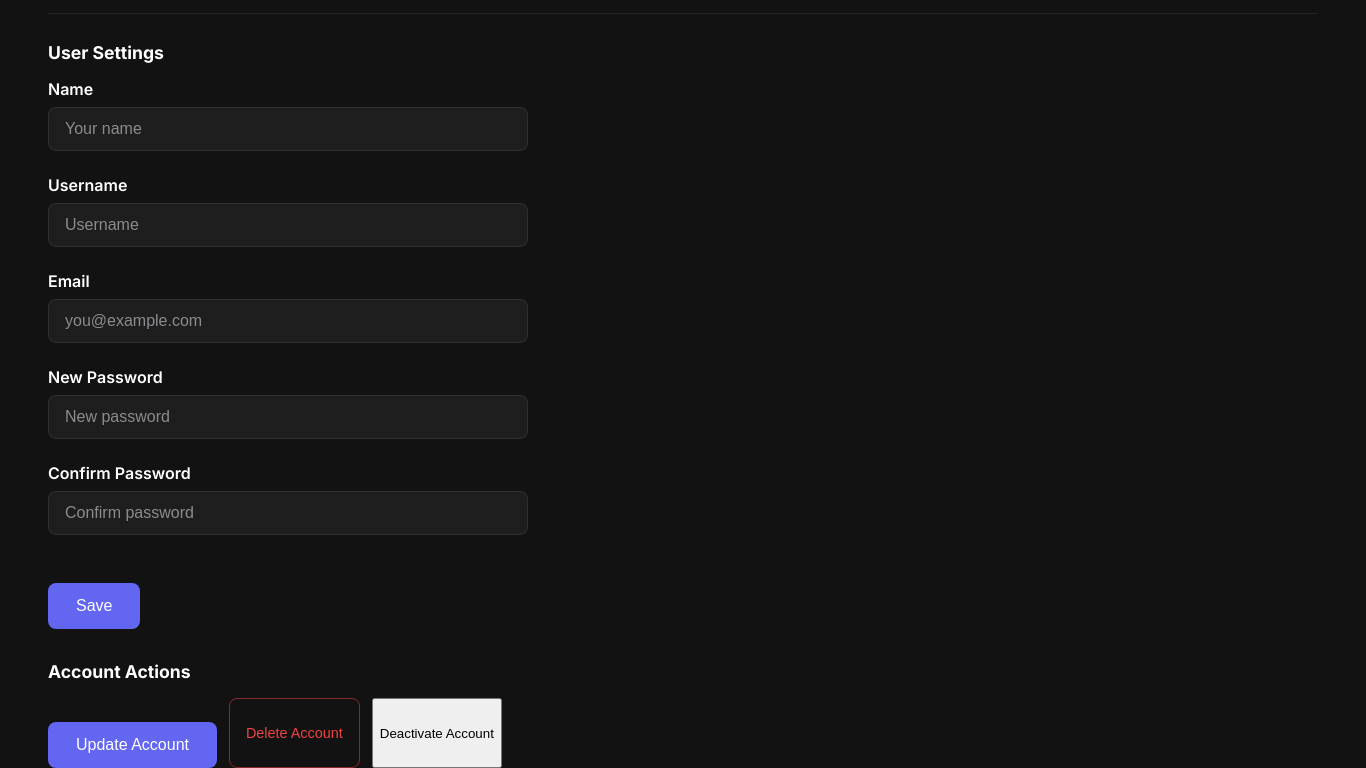
UserSettings component › shows success status after Update Account succeeds
(page scrolled)
Click the button "Update Account" at (132, 745), box top-left (48, 722), bottom-right (217, 767)
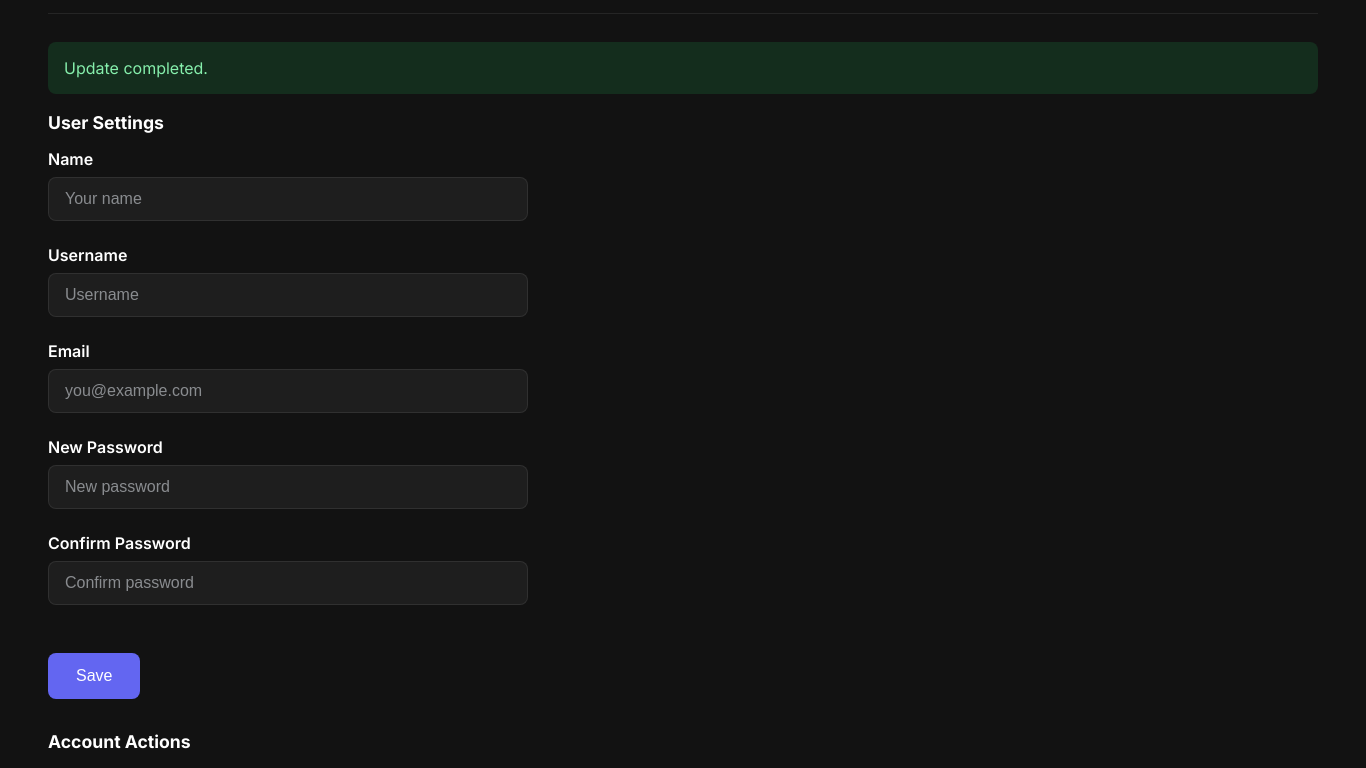
expect the text "Update completed." is shown: met, box top-left (48, 42), bottom-right (1318, 94)
